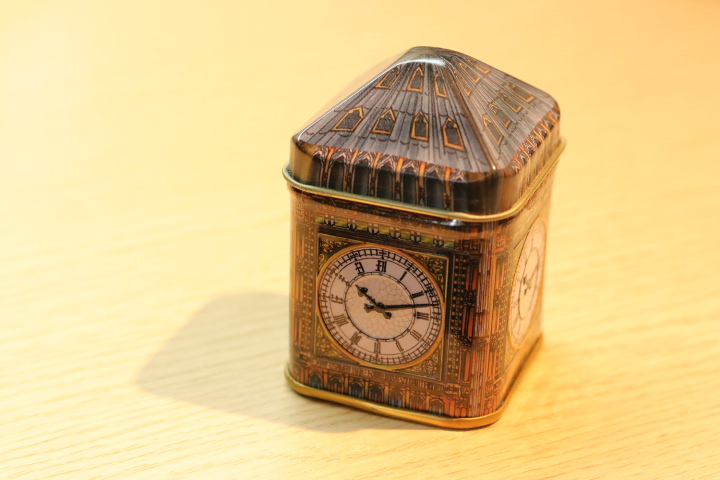Big Ben: (265, 32, 583, 443)
